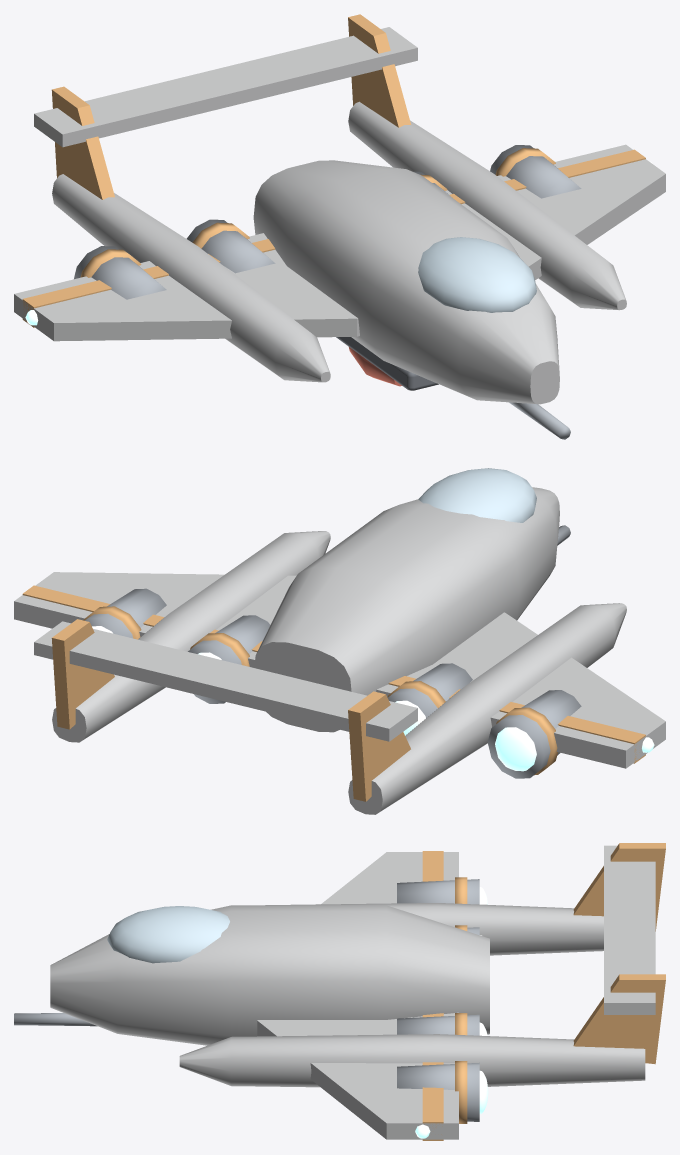
The model's file is h_bomber.glb.
3 views of the same model, one above another, from view 1: azimuth 30°, elevation 25°; view 2: azimuth 150°, elevation 25°; view 3: azimuth 270°, elevation 25° (orthographic). The views are drawn at different scales.
Visible parts, largest first — view 1: hull, paint, metal, canopy; view 2: hull, paint, metal, canopy, glow; view 3: hull, paint, metal, canopy, glow.
Boxes of the visible parts, x1,y1,x2,y2 form: hull: (14, 27, 665, 404); paint: (22, 14, 645, 386); metal: (74, 145, 581, 439); canopy: (418, 237, 536, 312); hull: (14, 487, 665, 814); paint: (22, 585, 645, 801); metal: (85, 525, 581, 778); canopy: (418, 468, 536, 522); glow: (92, 626, 654, 771); hull: (50, 845, 655, 1139); paint: (422, 843, 665, 1140); metal: (14, 879, 479, 1121); canopy: (107, 906, 229, 963); glow: (415, 887, 488, 1138).
Size of what is drawn, in the model's own units: 1.27 by 0.3337 by 1.26.
